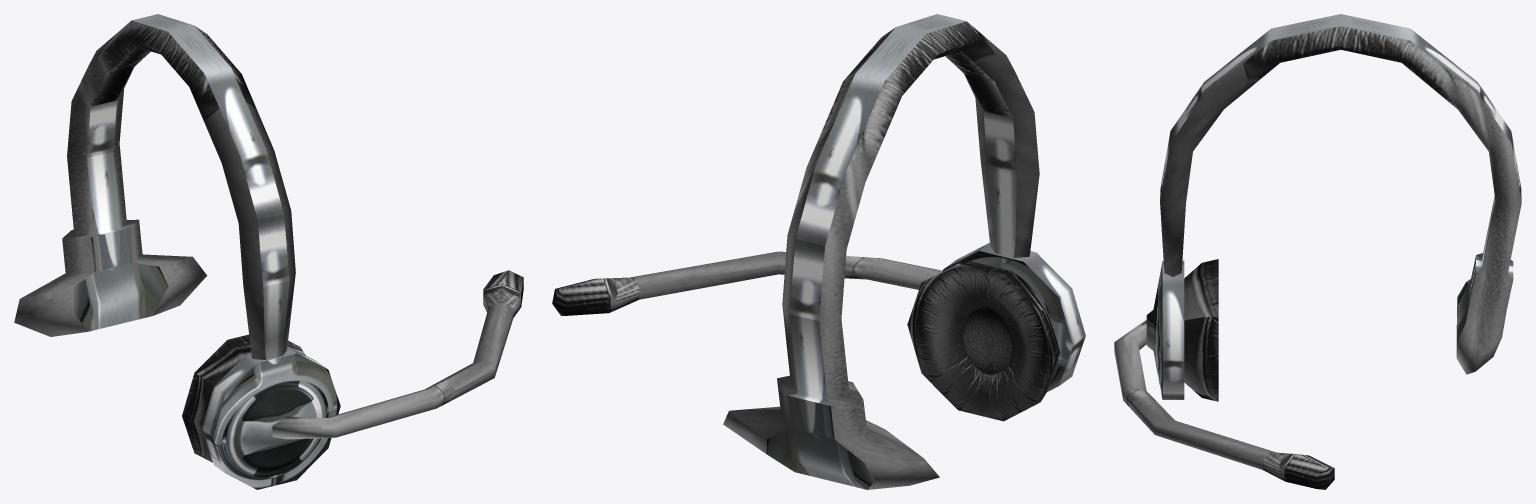
File: head set.fbx
3 renders of one model, left to right at view 1: azimuth 30°, elevation 25°; view 2: azimuth 150°, elevation 25°; view 3: azimuth 270°, elevation 25°, orthographic. The views are drawn at different scales.
Parts seen in each view (by area): view 1: polySurface2; view 2: polySurface2; view 3: polySurface2.
Boxes of the visible parts, box(x1,y1,x2,y2) form: polySurface2: box(14, 14, 523, 489); polySurface2: box(552, 14, 1085, 489); polySurface2: box(1114, 14, 1521, 489).
Bounding box in the file's own units: 0.7251 × 0.6345 × 0.6308.
